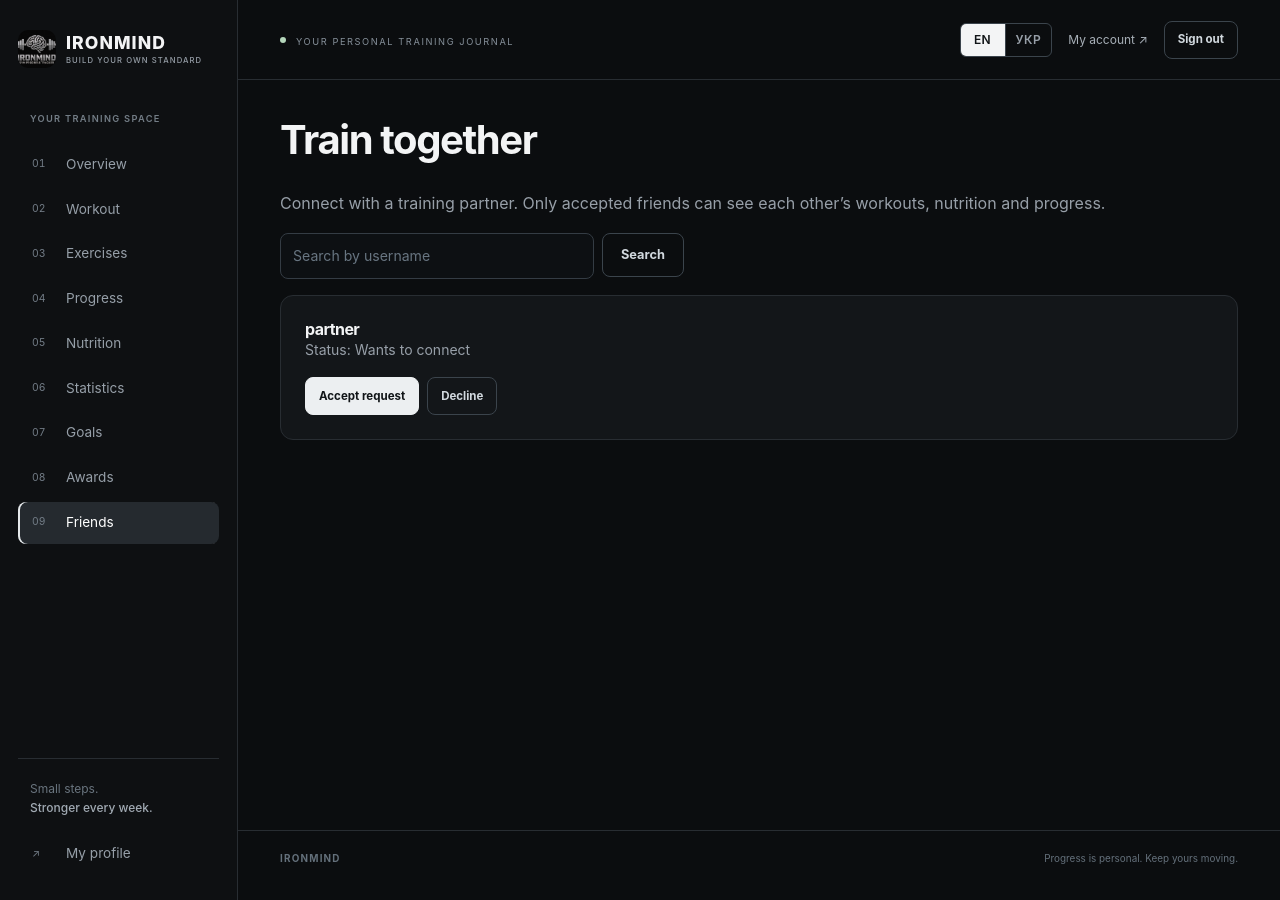
friends › accepts an incoming request and declines nothing it was not asked to
expect the text "Status: Wants to connect" is shown: met, box [305,341,470,358]
expect the button "Decline" is shown: met, box [427,377,497,415]
Click the button "Accept request": (362, 396) [305,377,419,415]
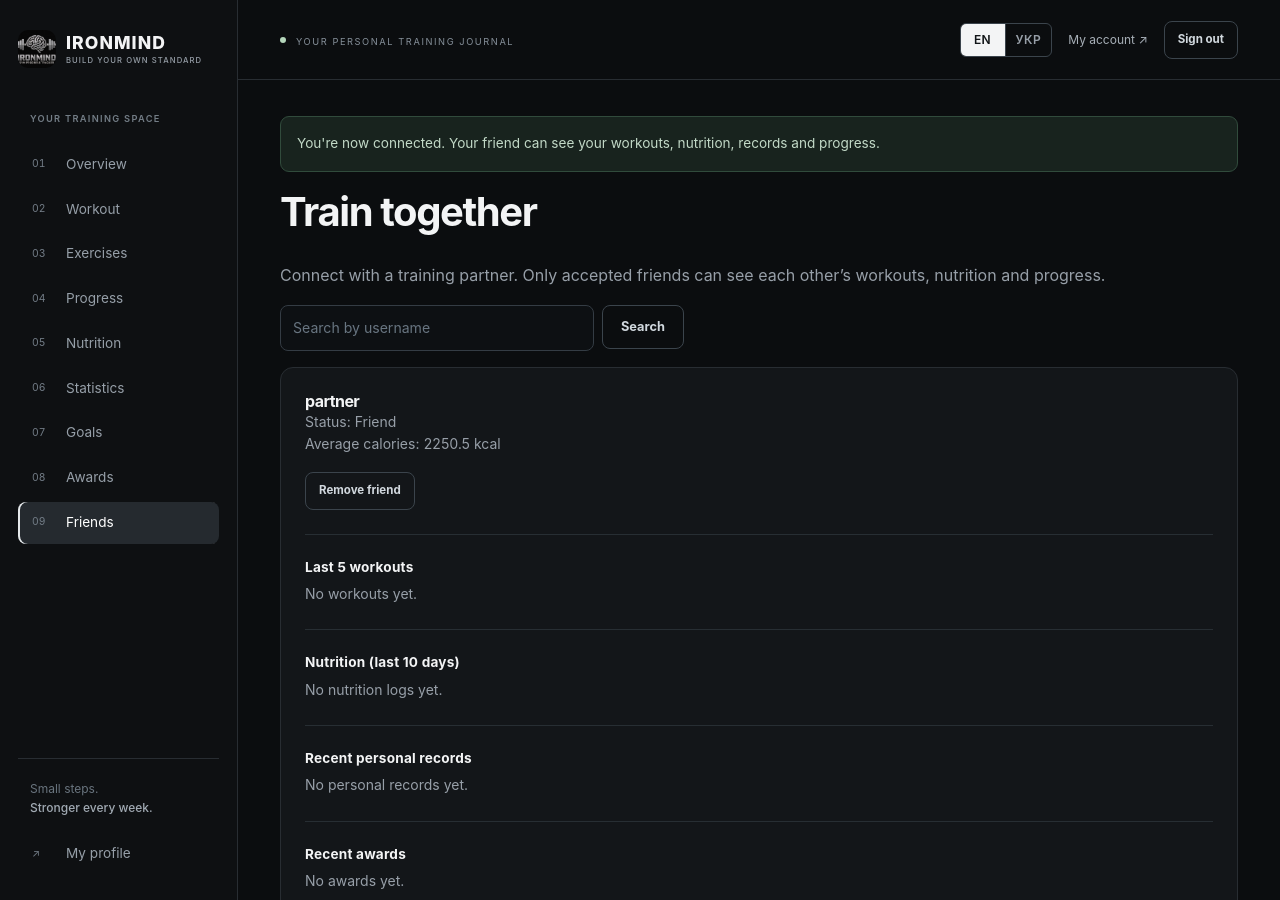
expect the text "You're now connected. Your friend can see your workouts, nutrition, records and progress." is shown: met, box [297,135,880,151]
expect the text "No workouts yet." is shown: met, box [305,585,417,602]
expect the text "No nutrition logs yet." is shown: met, box [305,680,442,698]
